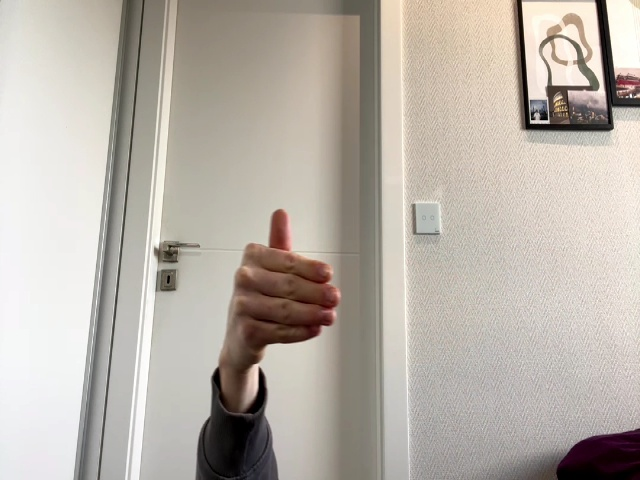M: (226, 209, 340, 359)
